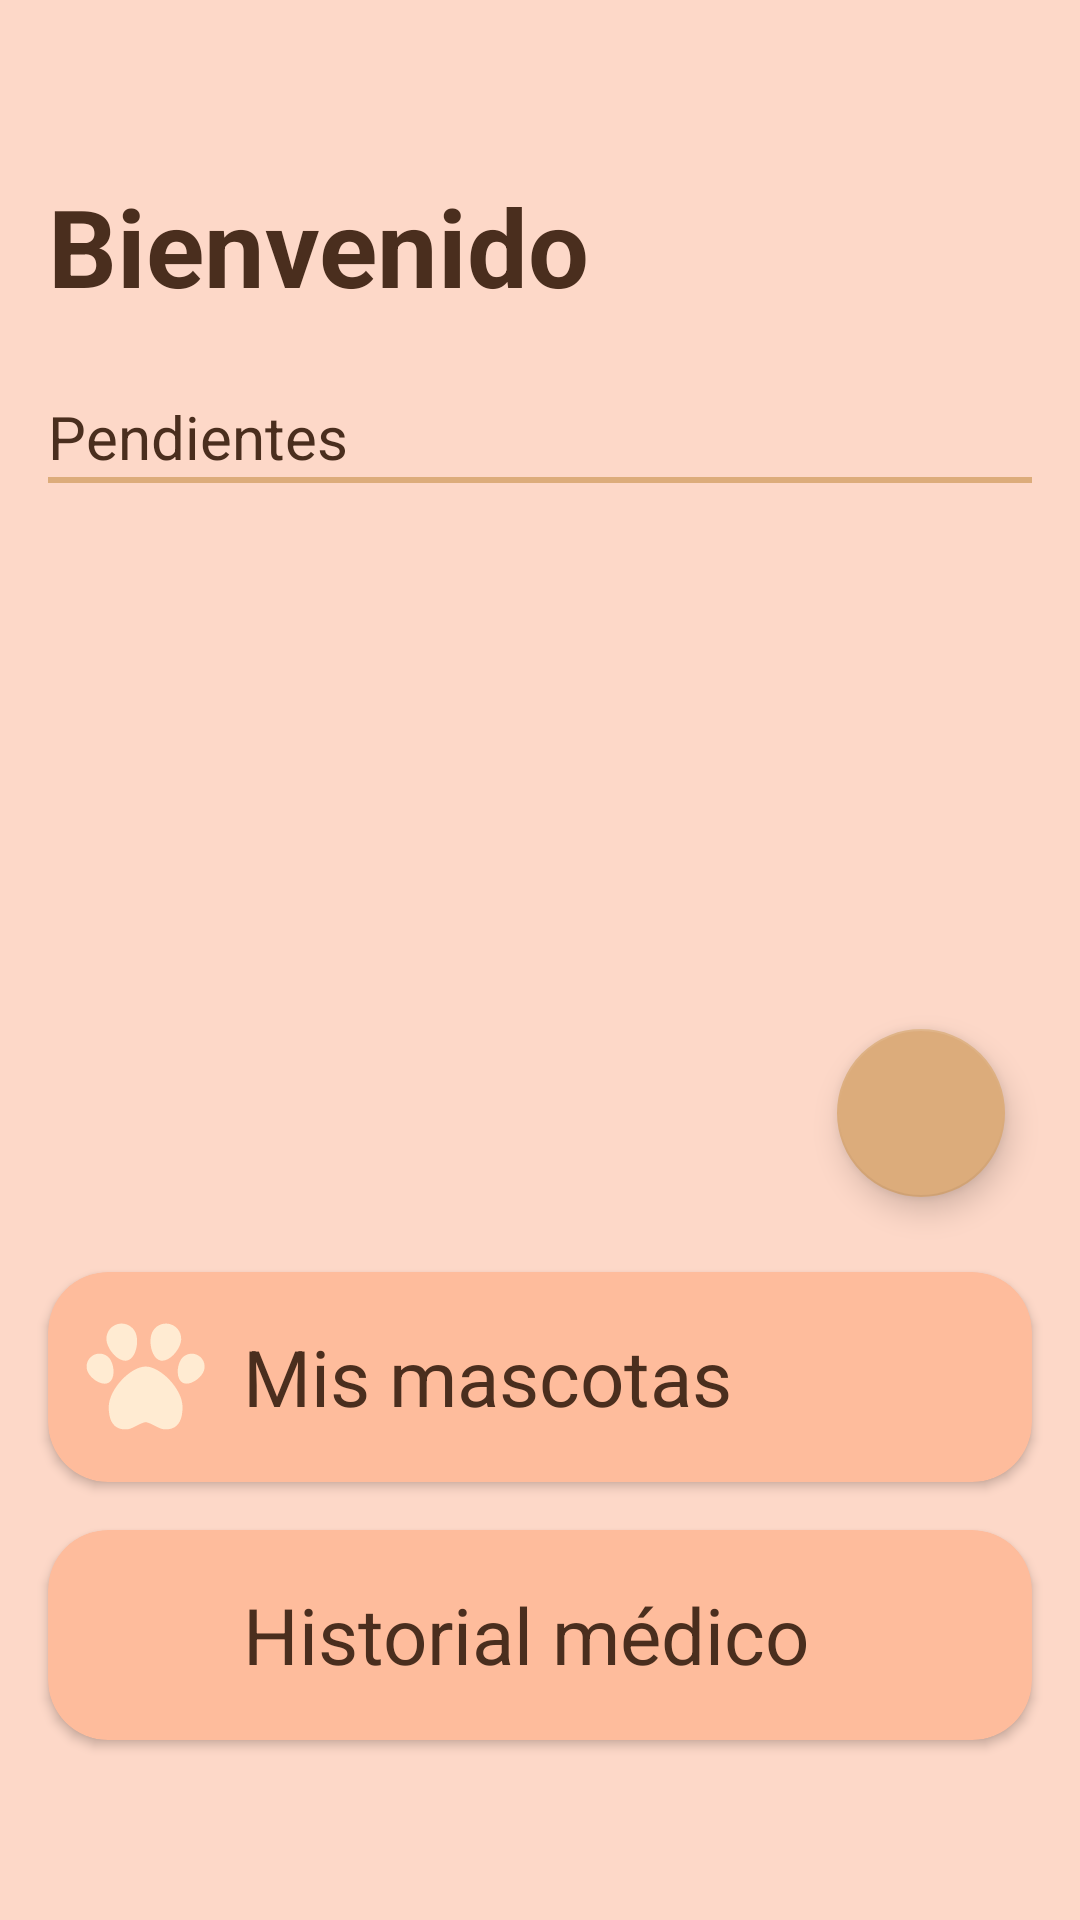

Icons on this 1080px×1920px Android screen, each with its box as Rect(x1, y1, x2, y2):
patita: Rect(87, 1323, 205, 1429)
